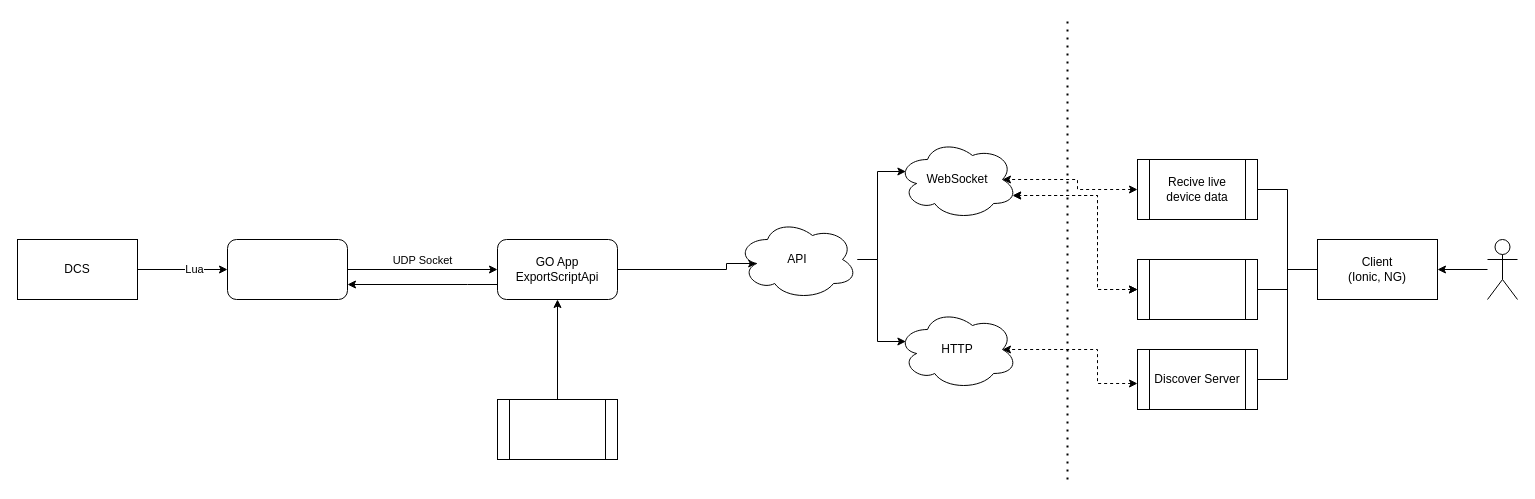
The diagram is 1535 pixels wide and 499 high, and some of its shapes have lost their labels. Here are the shapes that lost their labels. From the top down, the centre of each, then its label:
At (287,269): "Export script s-d-a".
At (1197,289): "Send device acions".
At (1502,269): "User".
At (557,429): "Formating module".
